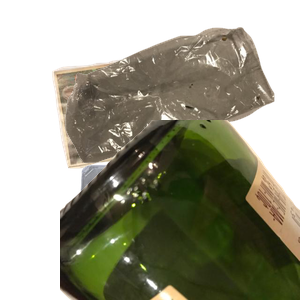glass: (60, 120, 300, 300)
paper: (49, 51, 235, 212)
plastic: (76, 162, 264, 300)
trash: (63, 24, 300, 179)
